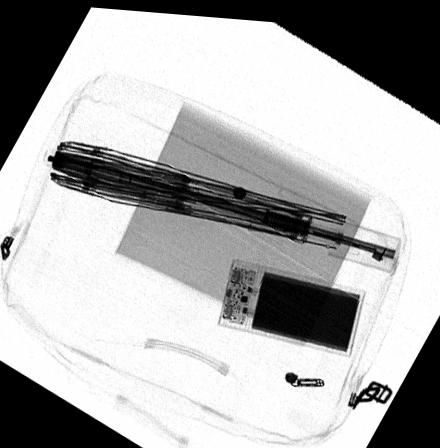Powerbank: (216, 254, 366, 352)
